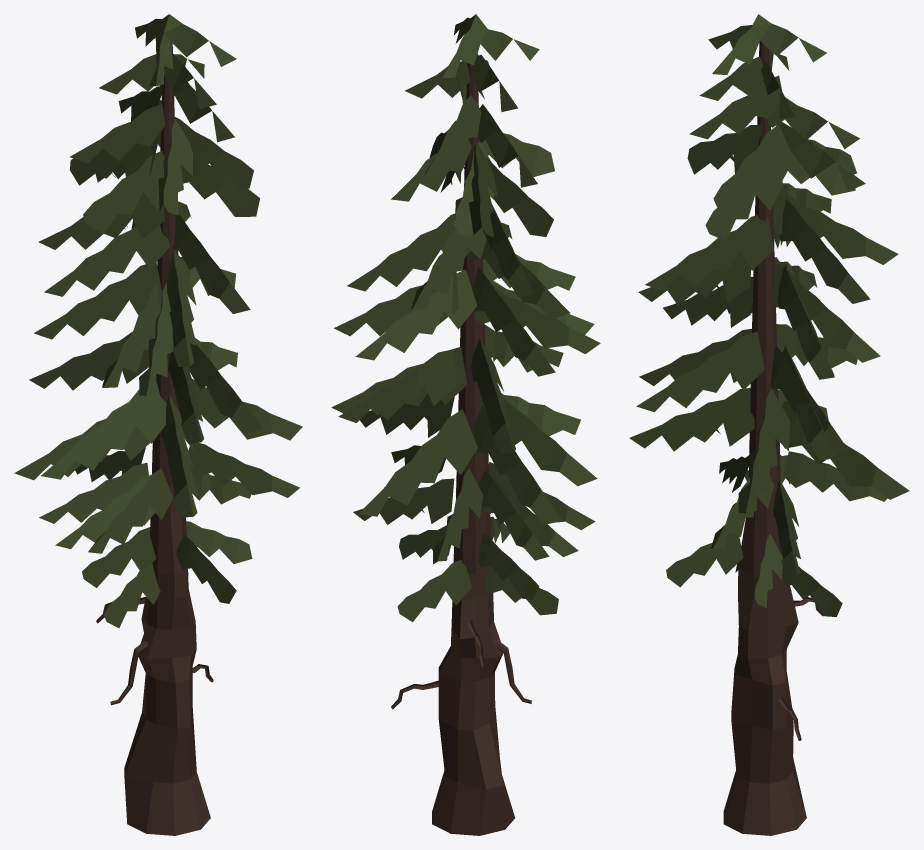
Rendered from Tree Type0 03.glb.
The picture shows the model from 3 angles, left to right: view 1: azimuth 30°, elevation 25°; view 2: azimuth 150°, elevation 25°; view 3: azimuth 270°, elevation 25°; orthographic projection.
Parts seen in each view (by area): view 1: Tree_Type0_03_mesh; view 2: Tree_Type0_03_mesh; view 3: Tree_Type0_03_mesh.
Boxes of the visible parts, box(x1,y1,x2,y2) form: Tree_Type0_03_mesh: box(14, 14, 302, 835); Tree_Type0_03_mesh: box(331, 14, 600, 835); Tree_Type0_03_mesh: box(629, 14, 909, 835).
Size of the model in its own units: 2.78 by 8.47 by 2.69.
1 material, 1 textured.
